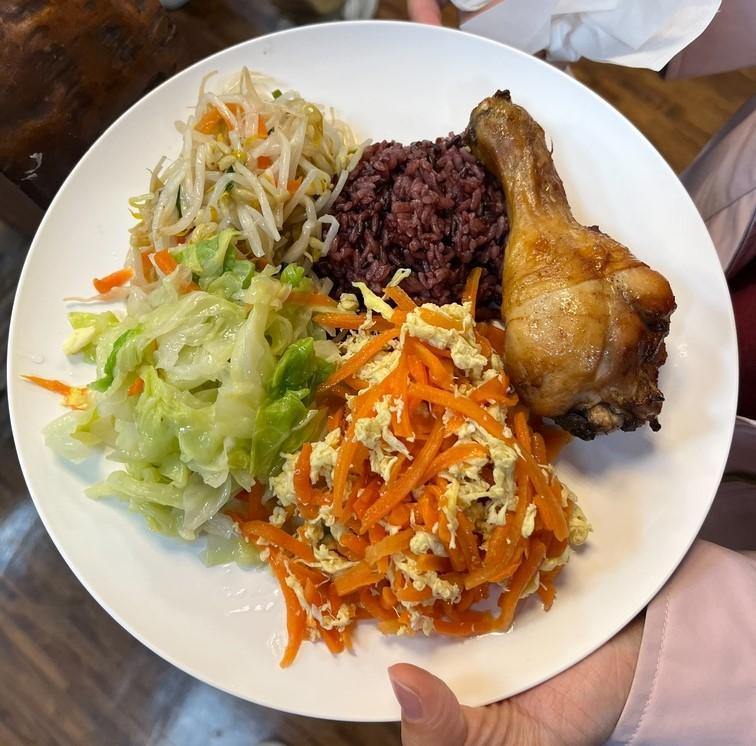big fried chicken leg: (7, 5, 746, 728)
braised fish: (327, 132, 509, 303)
braised fish fillet: (285, 289, 567, 655), (62, 249, 315, 524), (127, 69, 342, 283)
braised pork: (474, 92, 680, 444)
